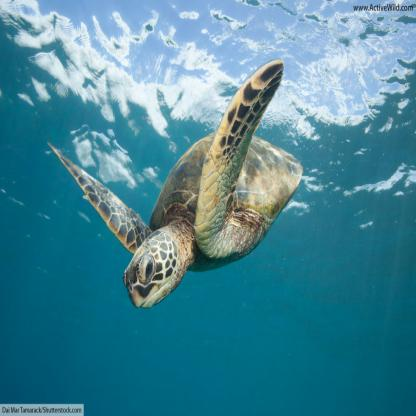turtle: (119, 226, 190, 314)
